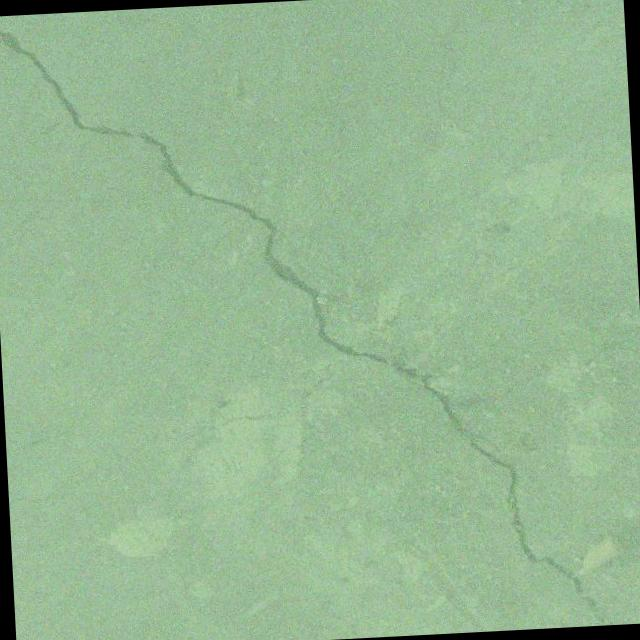crack: (0, 0, 605, 640), (200, 380, 326, 430), (8, 466, 102, 506)
